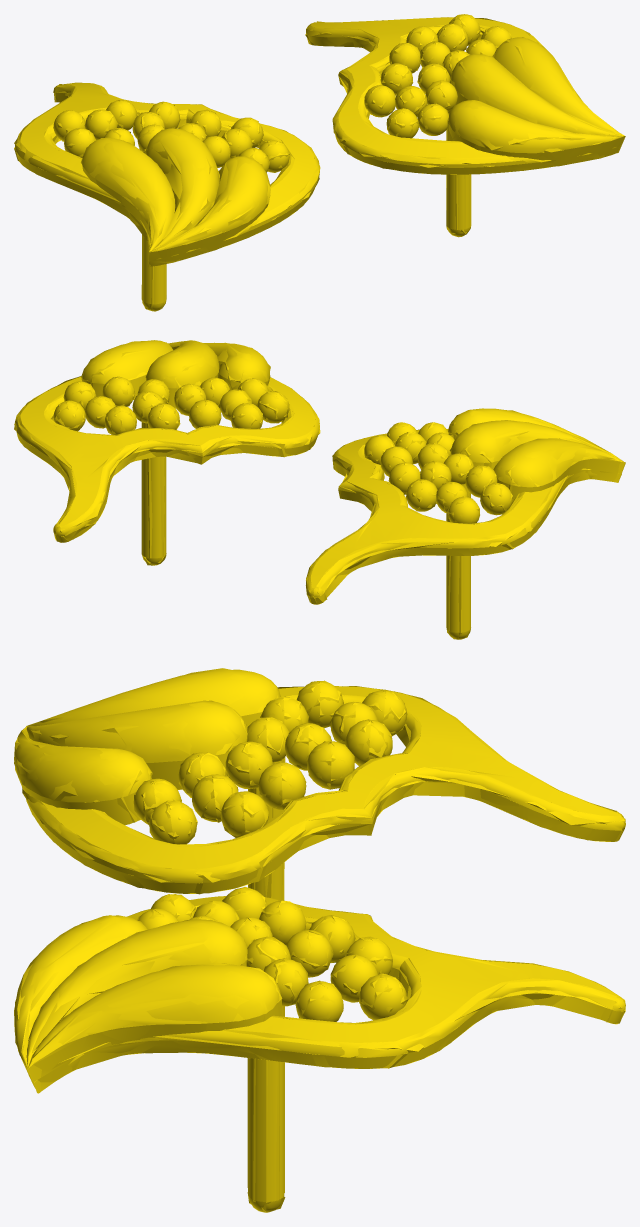
File: GP-D000705676_hub.glb
3 renders of one model, top to bottom at view 1: azimuth 30°, elevation 25°; view 2: azimuth 150°, elevation 25°; view 3: azimuth 270°, elevation 25°, orthographic. The views are drawn at different scales.
Parts seen in each view (by area): view 1: highPolyMesh, lowPolyMesh; view 2: highPolyMesh, lowPolyMesh; view 3: highPolyMesh, lowPolyMesh.
Boxes of the visible parts, x1,y1,x2,y2 form: highPolyMesh: (15, 14, 624, 311); lowPolyMesh: (14, 14, 625, 311); highPolyMesh: (15, 340, 624, 639); lowPolyMesh: (14, 340, 625, 639); highPolyMesh: (14, 669, 625, 1212); lowPolyMesh: (14, 668, 625, 1211).
Size of the model in its own units: 0.0213 by 0.00791 by 0.0151.
